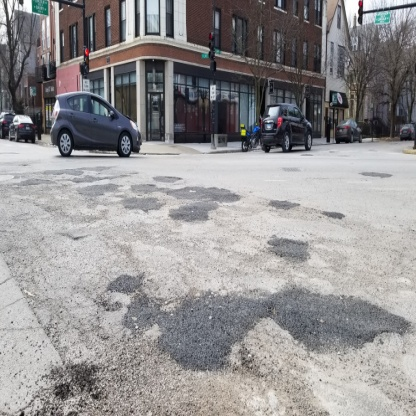pothole: (92, 257, 412, 372), (254, 225, 322, 268), (355, 163, 394, 187)
